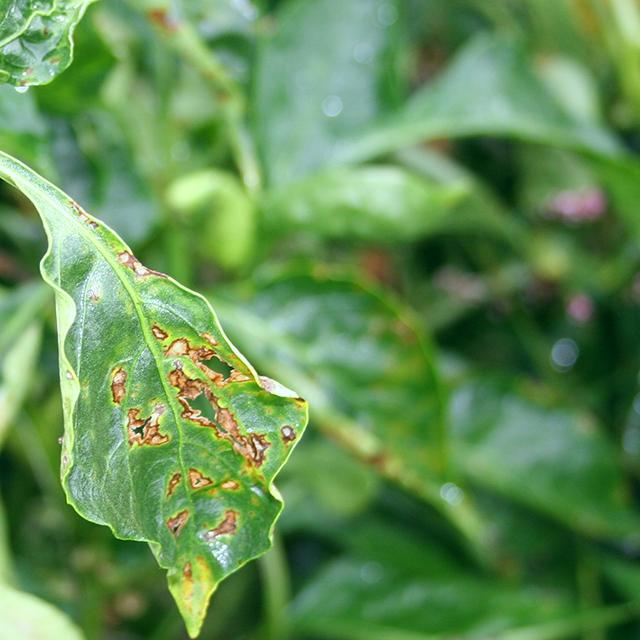Tomato leaf bacterial spot: (0, 170, 331, 640)
